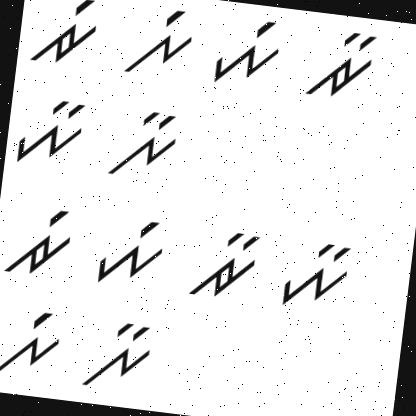lan: (70, 314, 156, 399), (101, 103, 182, 186)
lang: (123, 0, 199, 83), (0, 305, 69, 387)
ran: (296, 21, 381, 109), (184, 222, 266, 312)
rang: (0, 199, 83, 282), (27, 0, 106, 75)
yan: (275, 228, 360, 314), (10, 91, 92, 172)
yang: (90, 210, 174, 296), (206, 5, 287, 92)
